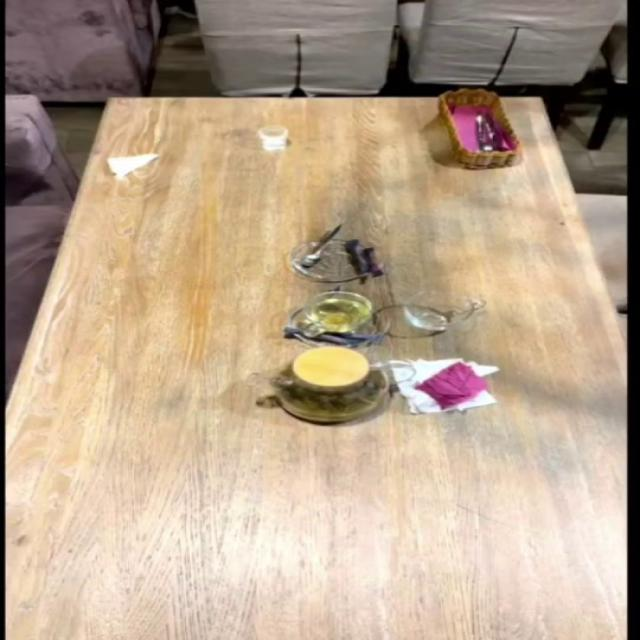tea: (268, 345, 389, 423)
